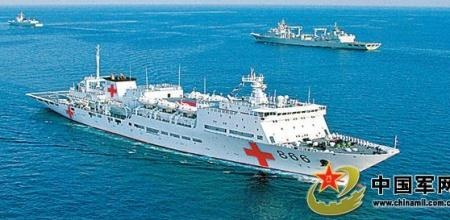warship: (29, 42, 392, 176), (254, 17, 383, 52), (9, 8, 44, 30)
